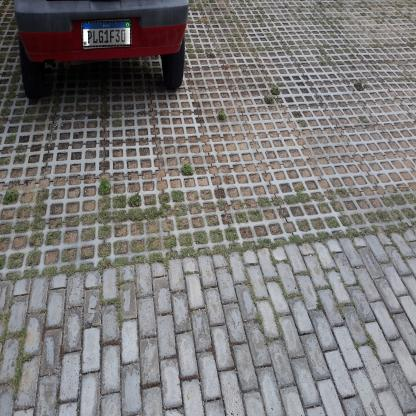PlacaM: (82, 20, 131, 48)
